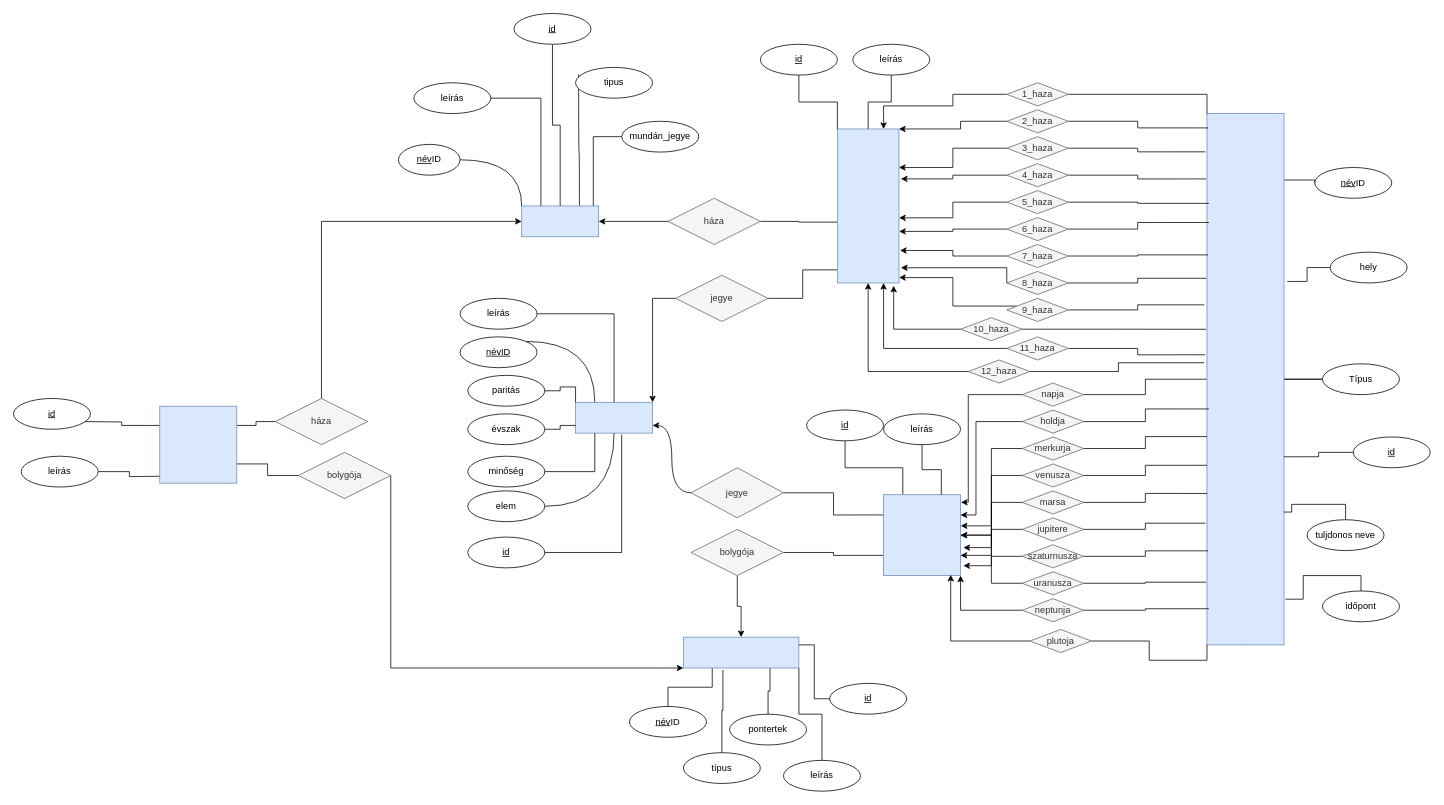
This 1444x805 diagram has some shape labels left out. Here are the shapes that lost their labels. From the top down, the centre of each, then its label:
At pixel 560 221: "Ház".
At pixel 868 205: "Házjegye".
At pixel 1245 379: "Horoszkóp".
At pixel 614 417: "Jegy".
At pixel 198 444: "BolygoHazban".
At pixel 922 535: "BolygóJegyben".
At pixel 741 652: "Bolygó".
